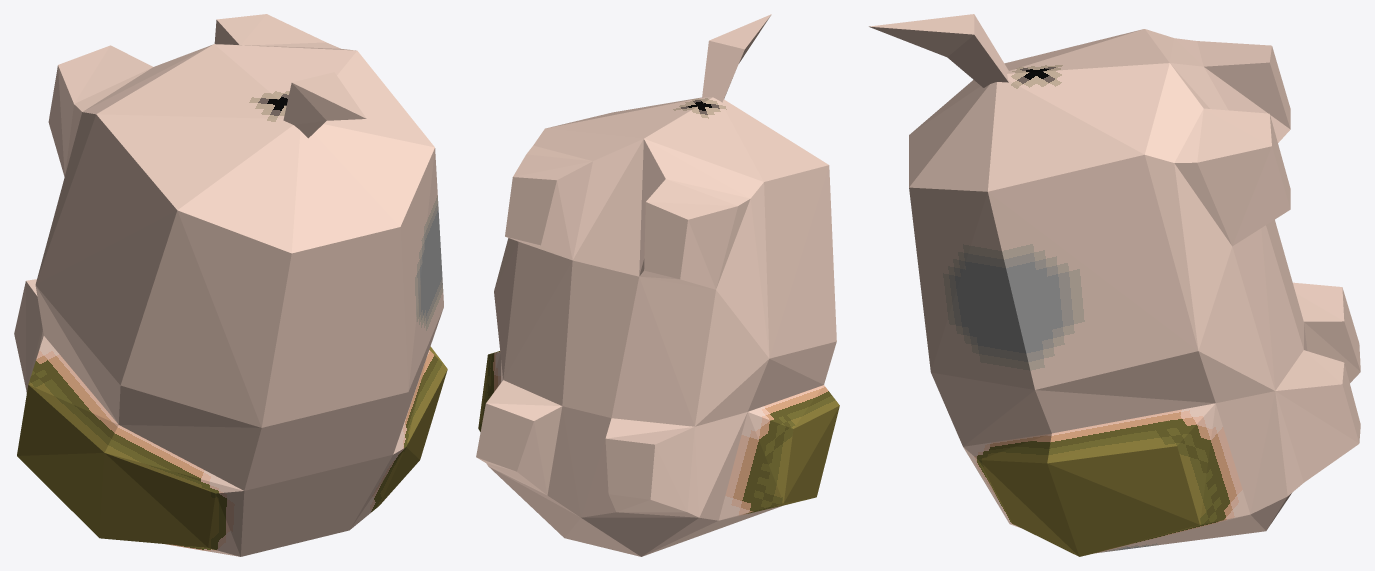
Rendered from pug.obj.
The picture shows the model from 3 angles, left to right: view 1: azimuth 30°, elevation 25°; view 2: azimuth 150°, elevation 25°; view 3: azimuth 270°, elevation 25°; orthographic projection. The views are drawn at different scales.
Visible parts, largest first — view 1: Object.1; view 2: Object.1; view 3: Object.1.
Part boxes in pixels (x1,y1,x2,y2): Object.1: (14, 14, 447, 556); Object.1: (476, 14, 839, 556); Object.1: (869, 14, 1360, 556).
Size of the model in its own units: 32.98 by 43.86 by 39.11.
Materials: 2 (2 with a texture image).
